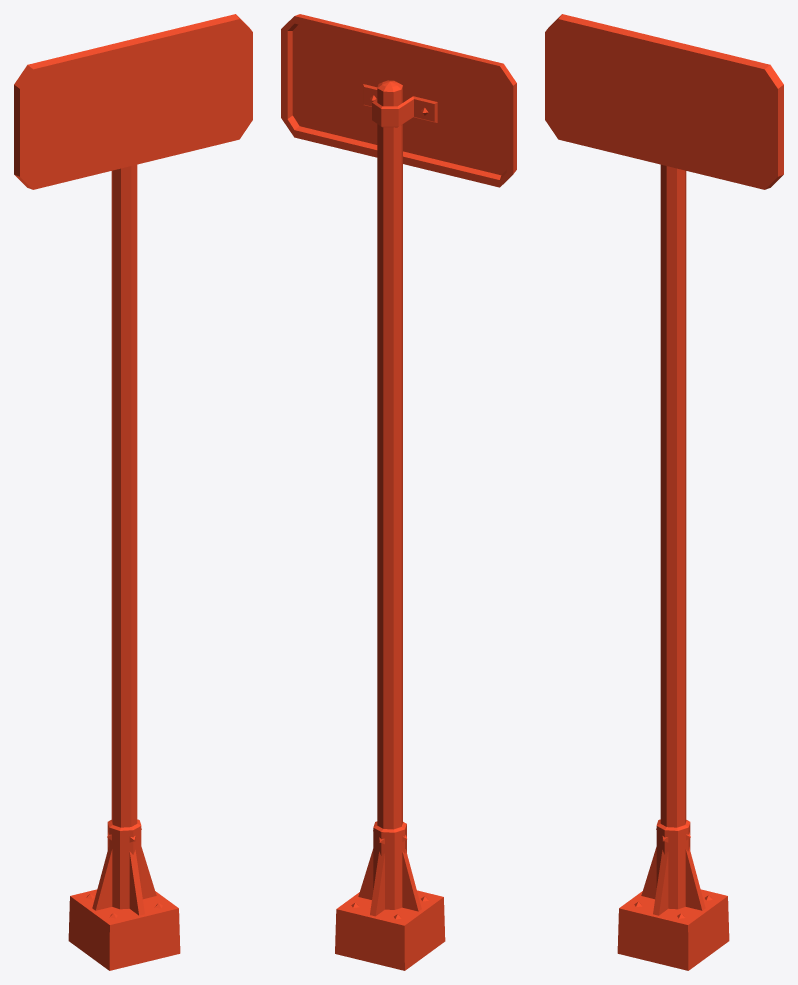
File: SM_Sign_Double_B_City.fbx
3 views of the same model, side by side, from view 1: azimuth 30°, elevation 25°; view 2: azimuth 150°, elevation 25°; view 3: azimuth 330°, elevation 25° (orthographic).
Visible parts, largest first — view 1: SM_Sign_Double_B_City; view 2: SM_Sign_Double_B_City; view 3: SM_Sign_Double_B_City.
Boxes of the visible parts, x1,y1,x2,y2 form: SM_Sign_Double_B_City: (14, 14, 252, 970); SM_Sign_Double_B_City: (281, 14, 516, 970); SM_Sign_Double_B_City: (545, 14, 783, 970).
Bounding box in the file's own units: 0.61 × 2.26 × 0.1839.
